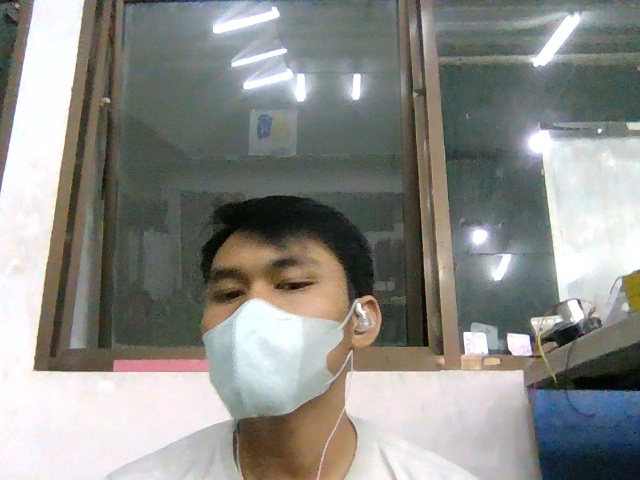mask_on: (203, 299, 352, 420)
